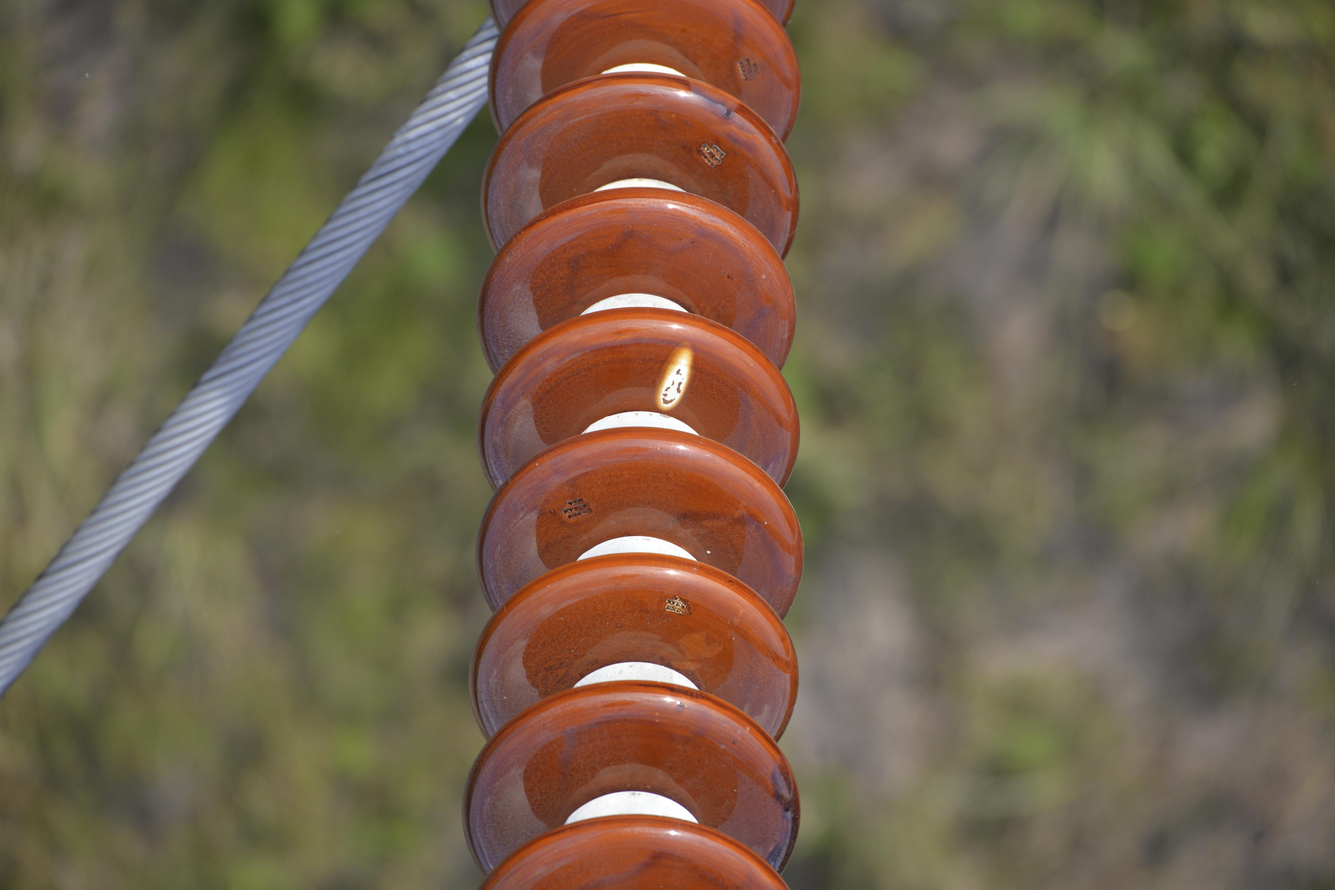Flashover: (657, 341, 698, 413)
insulator: (465, 0, 802, 890)
